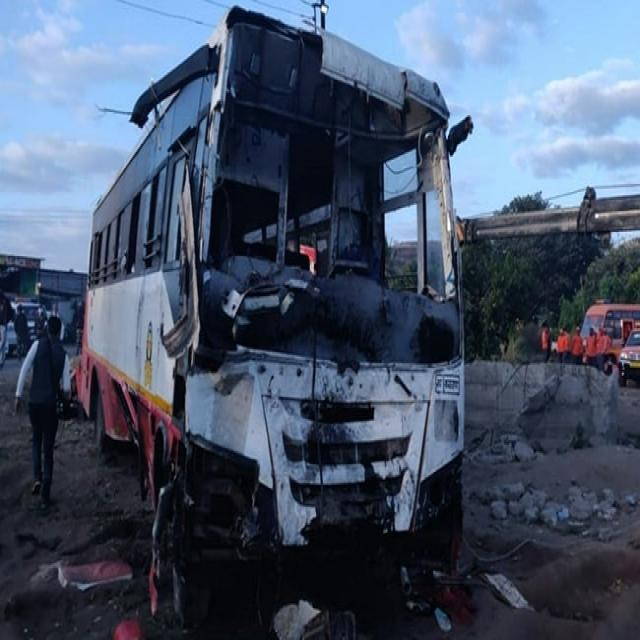accident: (79, 8, 465, 623)
